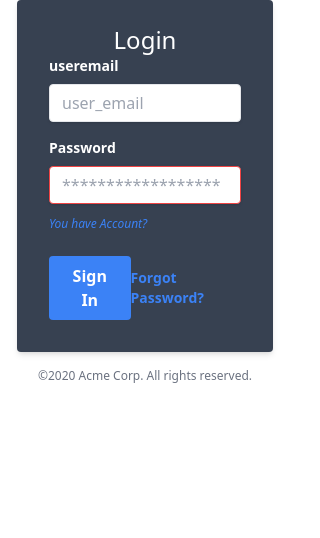
Test case: Test RegisterForm › Register Page Tests › test Register page When form submitted rejected and error show on document
Step 1. Click the text named "changePage" → (98, 224), box top-left (49, 215), bottom-right (147, 232)
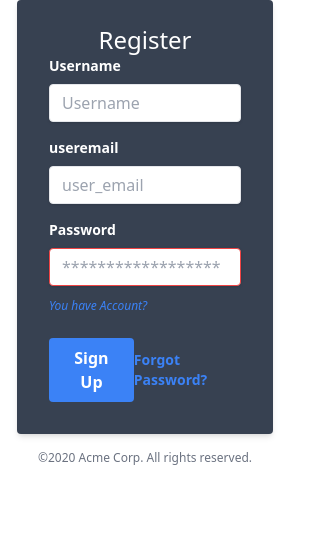
Step 2. Type "JohnDoe" into the field with test id "inputAuth" showing "Username" → (145, 103), box top-left (49, 84), bottom-right (241, 122)
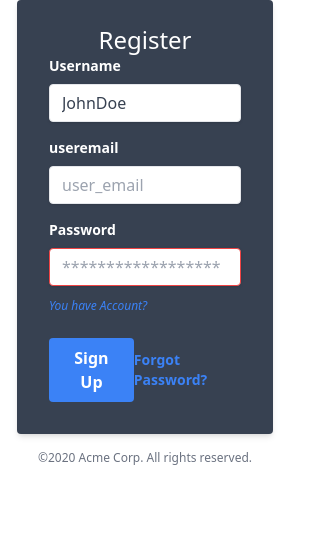
Step 3. Type "JohnDoe@gmail.com" into the field with test id "inputAuth" showing "user_email" → (145, 185), box top-left (49, 166), bottom-right (241, 204)
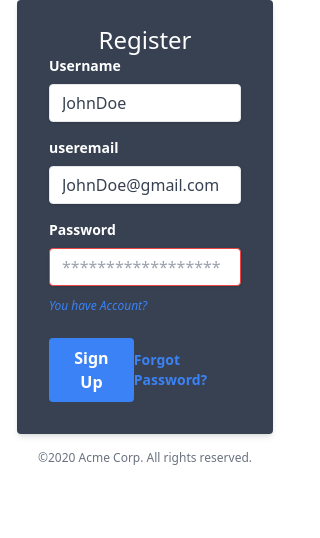
Step 4. Type "John123456" into the password field with test id "inputAuth" → (145, 267), box top-left (49, 248), bottom-right (241, 286)
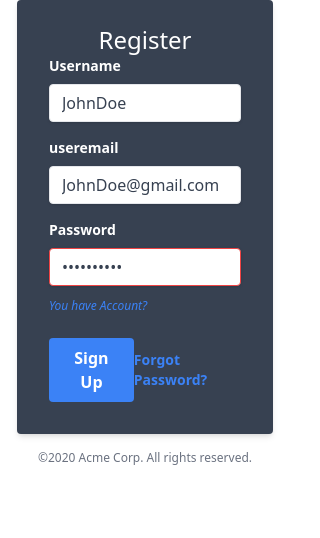
Step 5. Click the button named "submit" → (91, 370), box top-left (49, 338), bottom-right (134, 402)
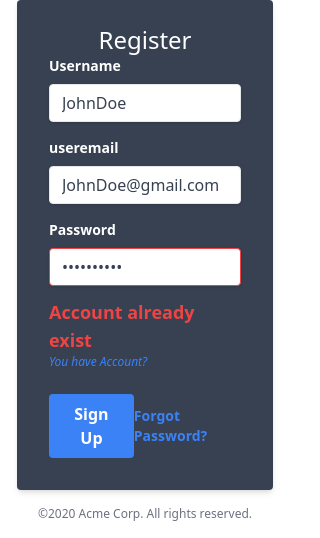
Expected: the text named "error_result" reads "Account already exist", top-left (49, 300), bottom-right (194, 352)
